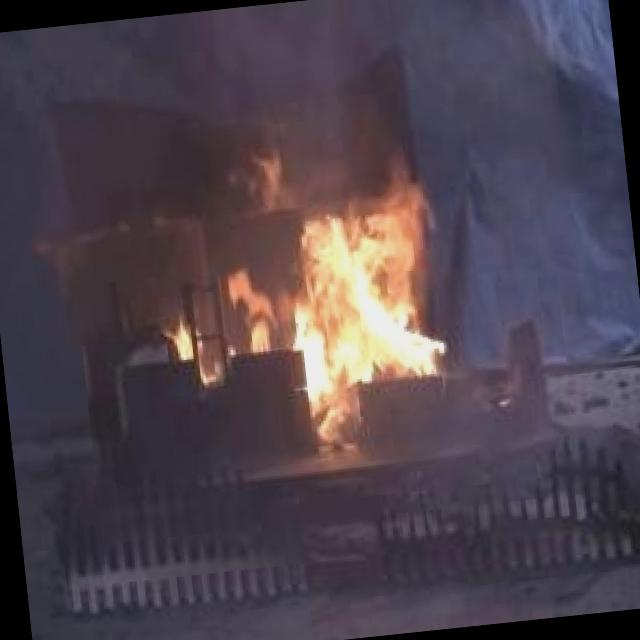fire: (222, 97, 455, 420)
